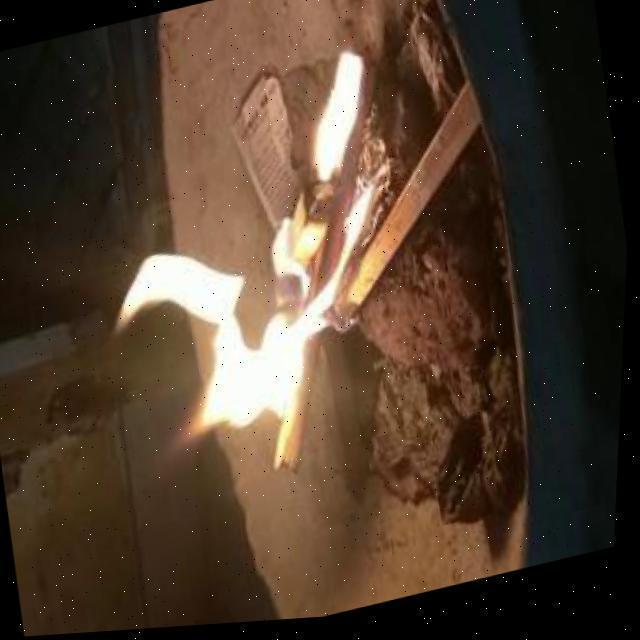fire: (106, 53, 370, 458)
